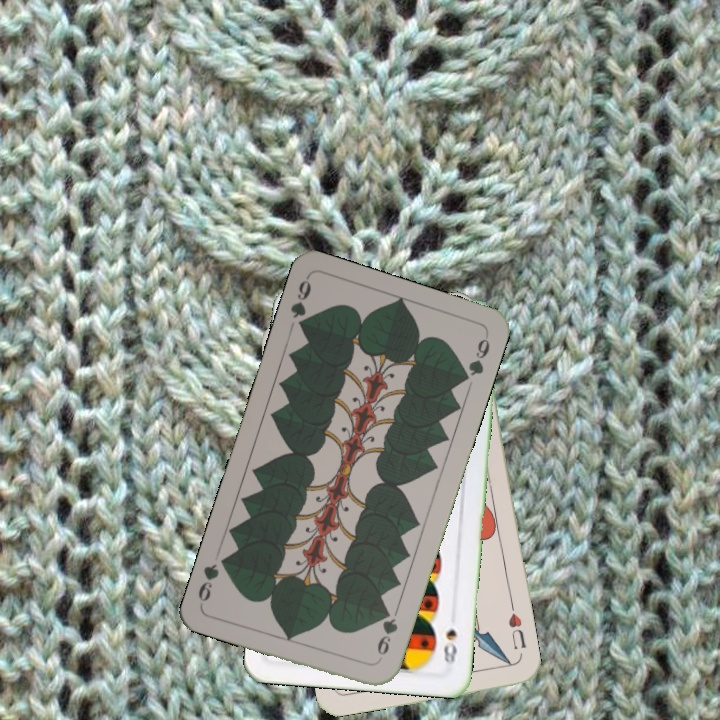G9: (286, 273, 314, 334), (373, 605, 401, 664)
HU: (504, 609, 528, 652)
S8: (439, 625, 459, 667)
